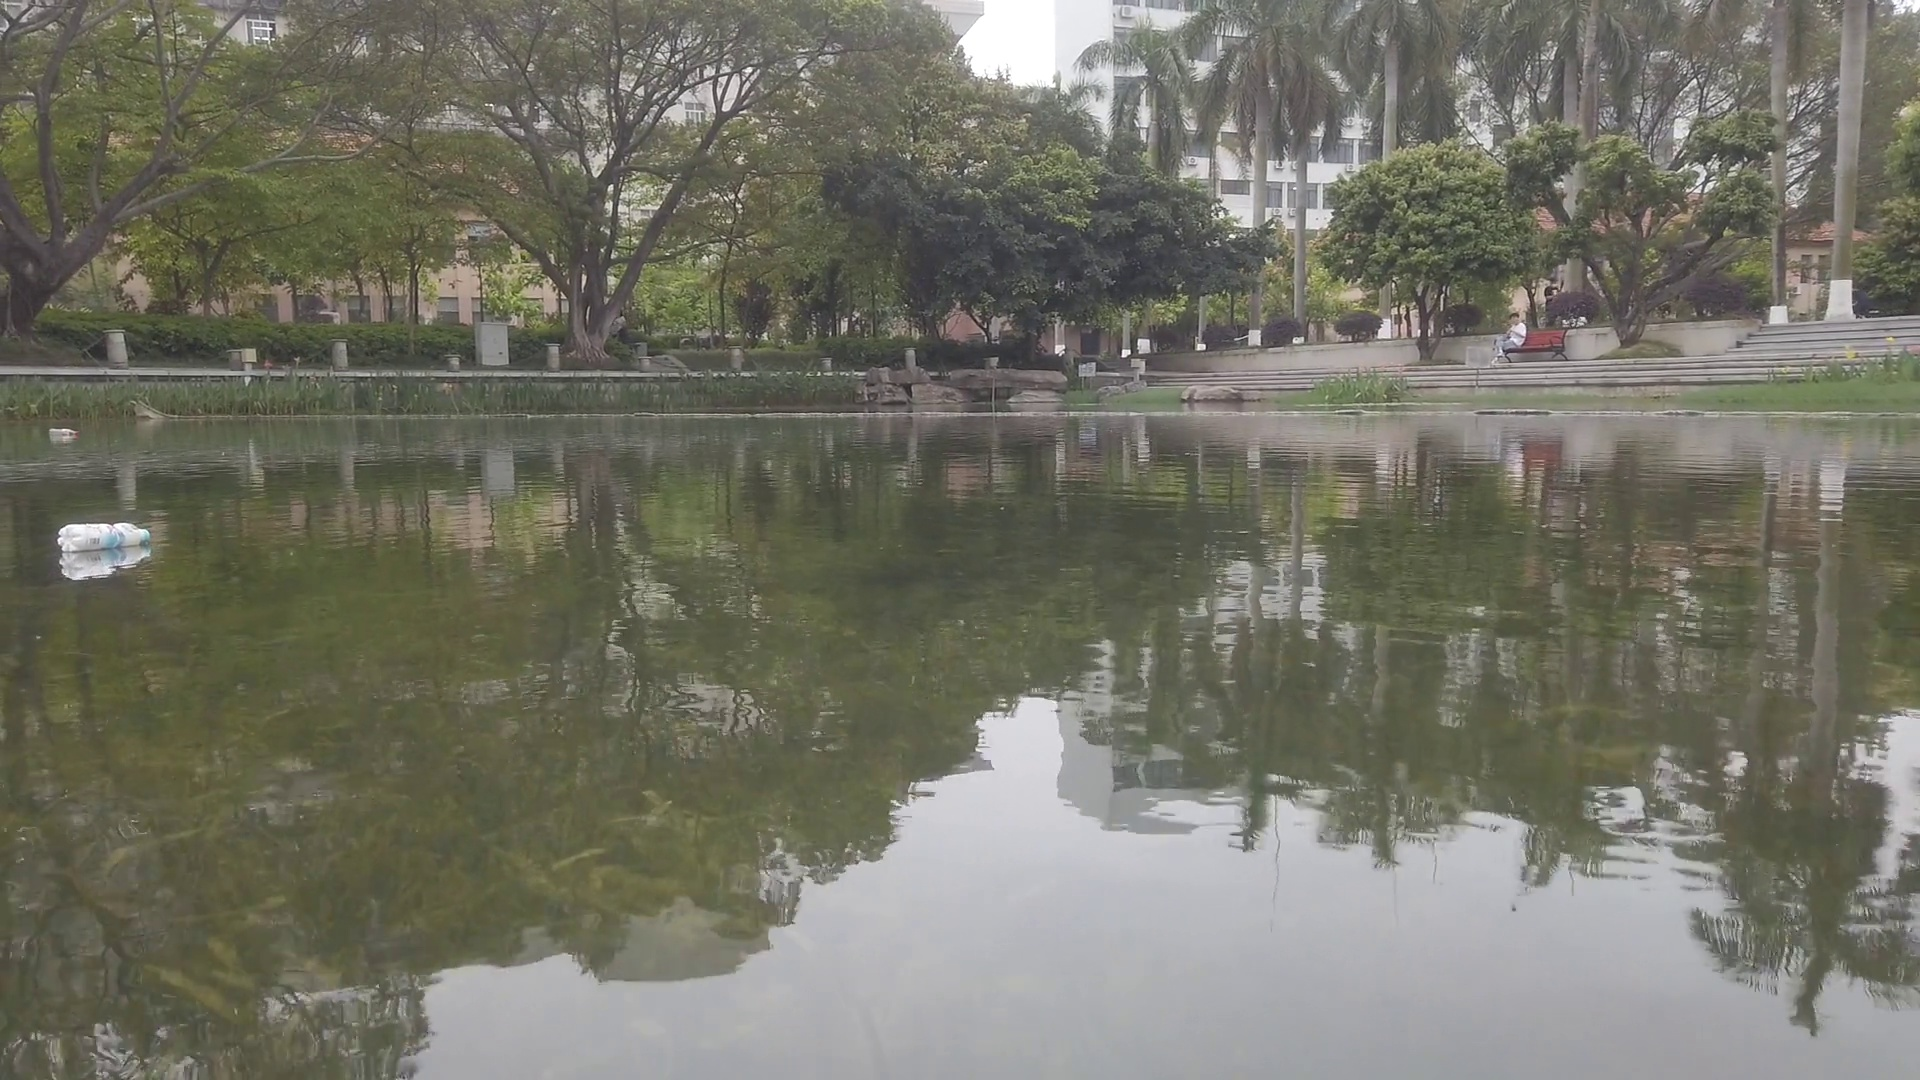bottle: (59, 522, 156, 553), (49, 427, 79, 442)
